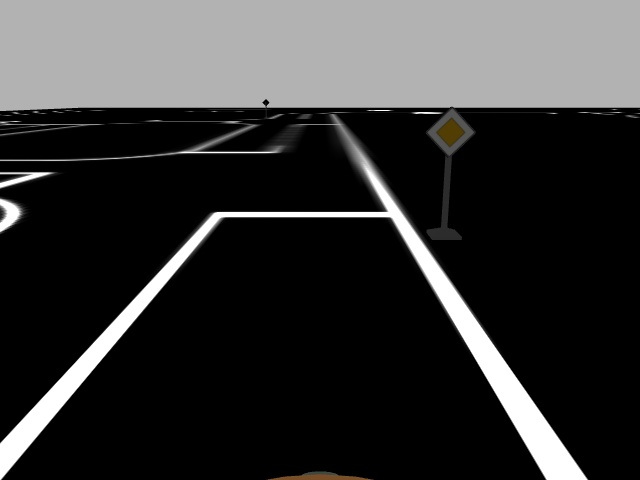priority: (425, 106, 476, 158)
